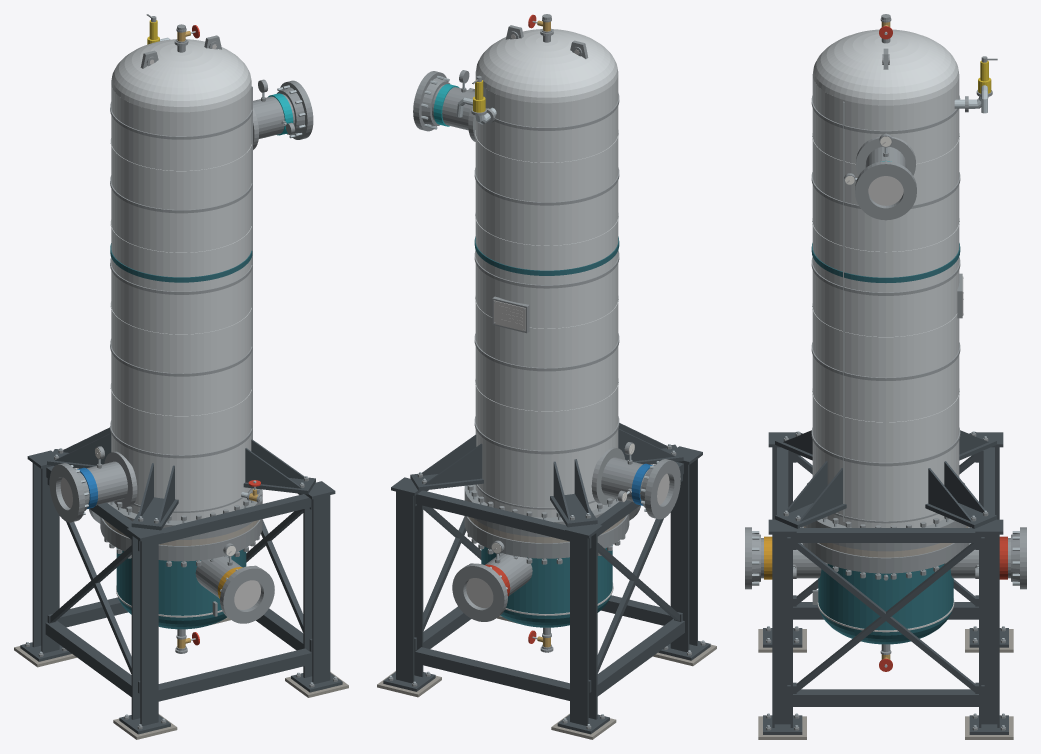
Rendered from inventory.obj.
3 views of the same model, side by side, from view 1: azimuth 30°, elevation 25°; view 2: azimuth 150°, elevation 25°; view 3: azimuth 270°, elevation 25° (orthographic). The views are drawn at different scales.
Size of the model in its own units: 0.3621 by 0.95 by 0.3621.
